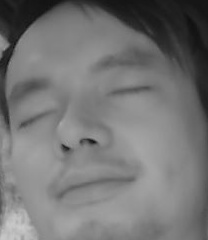blink: (102, 82, 150, 101), (17, 108, 54, 129)
mouth: (48, 161, 133, 209)
